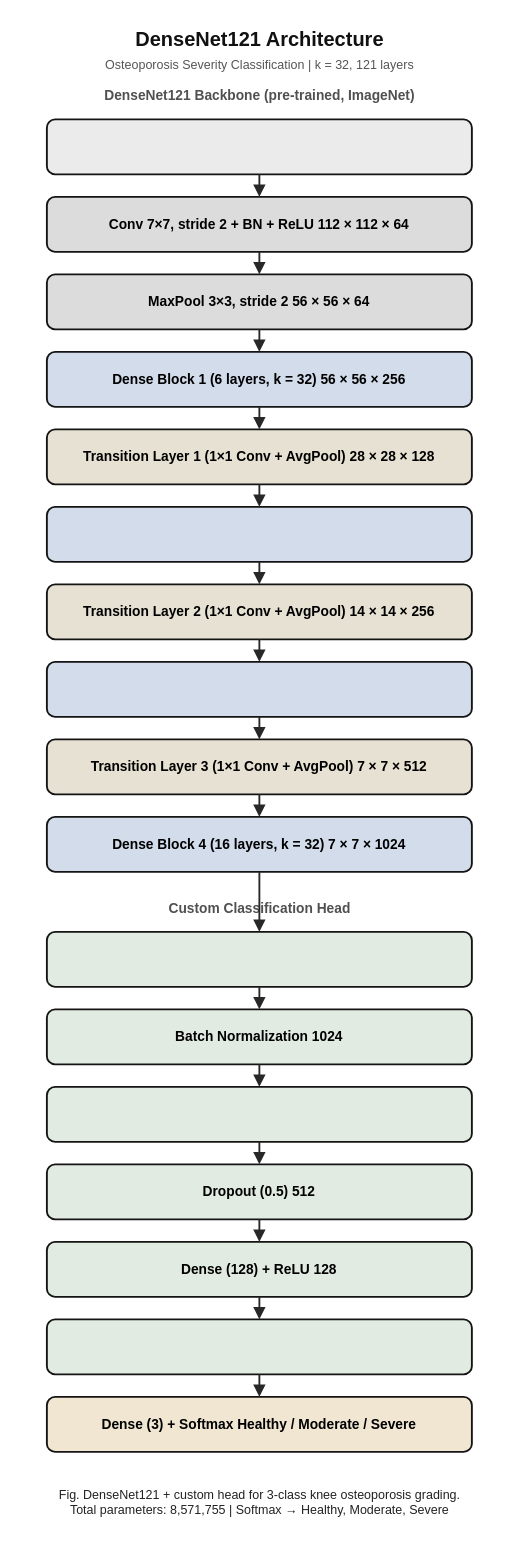
Some shapes in this 518 by 1560 pixel diagram are drawn without their labels. The centre of each missing label's shape, as x and y in pixels:
"Dense (512) + ReLU 512" belongs at pixel 258 1113.
"Dense Block 2 (12 layers, k = 32) 28 × 28 × 512" belongs at pixel 258 533.
"Dense Block 3 (24 layers, k = 32) 14 × 14 × 1024" belongs at pixel 258 688.
"Dropout (0.3) 128" belongs at pixel 258 1346.
"Global Average Pooling 2D 1024" belongs at pixel 258 958.
"Input Knee X-ray 224 × 224 × 3" belongs at pixel 258 146.
